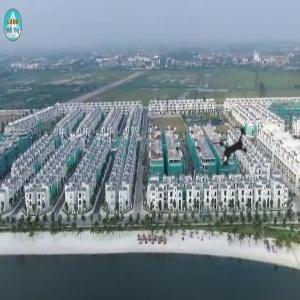drone: (194, 110, 269, 185)
